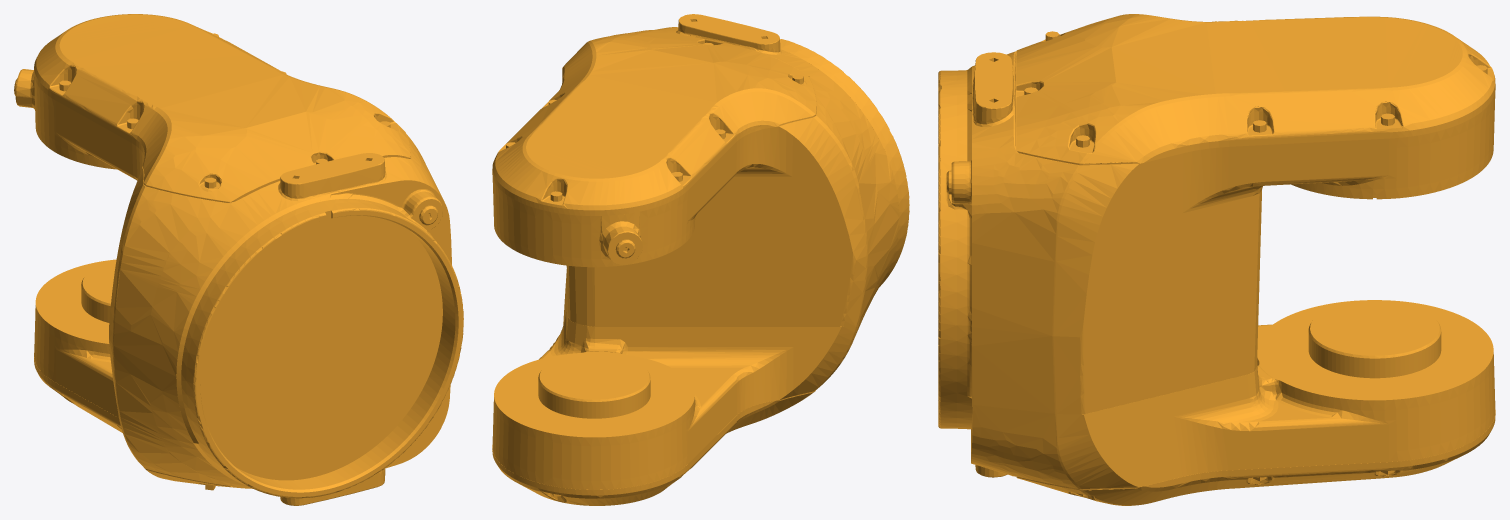
The model's file is ABBIRB1100Link1.dae.
The picture shows the model from 3 angles, left to right: view 1: azimuth 30°, elevation 25°; view 2: azimuth 150°, elevation 25°; view 3: azimuth 270°, elevation 25°; orthographic projection. The views are drawn at different scales.
Visible parts, largest first — view 1: irb1100Link1; view 2: irb1100Link1; view 3: irb1100Link1.
Boxes of the visible parts, box(x1,y1,x2,y2) form: irb1100Link1: box(14, 14, 463, 505); irb1100Link1: box(492, 14, 909, 505); irb1100Link1: box(938, 14, 1495, 505).
Size of the model in its own units: 0.1702 by 0.231 by 0.182.
